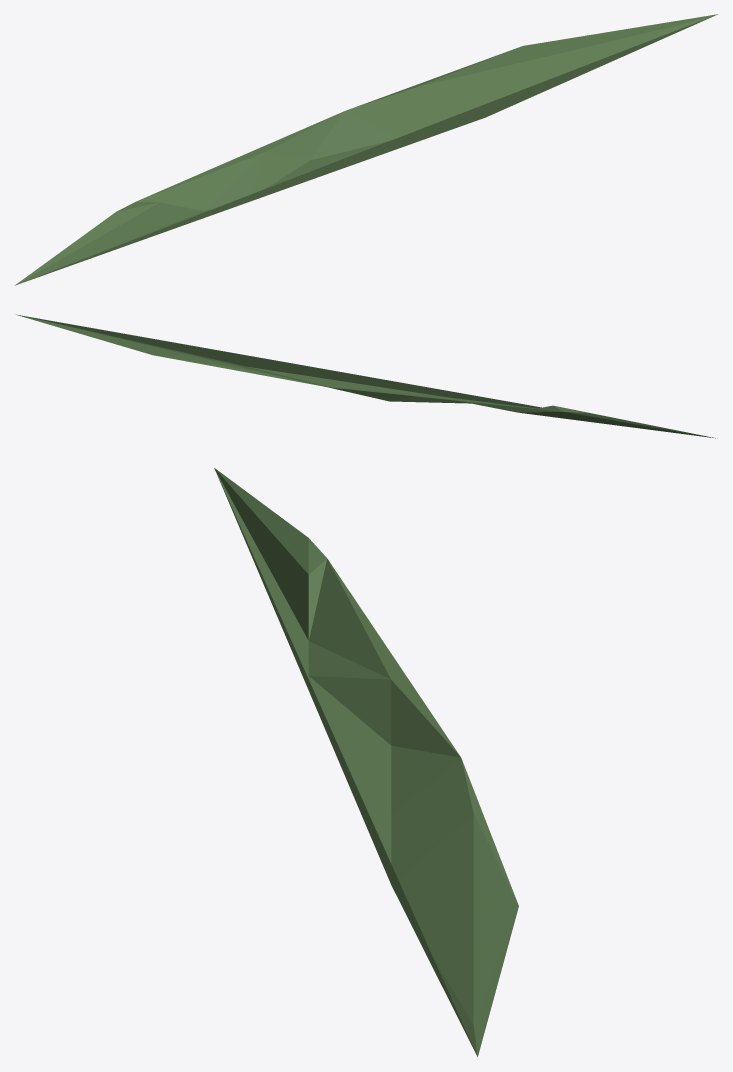
File: tile_3_6.glb
3 renders of one model, top to bottom at view 1: azimuth 30°, elevation 25°; view 2: azimuth 150°, elevation 25°; view 3: azimuth 270°, elevation 25°, orthographic. The views are drawn at different scales.
Parts seen in each view (by area): view 1: grn_3_6; view 2: grn_3_6; view 3: grn_3_6.
Boxes of the visible parts, x1,y1,x2,y2 form: grn_3_6: [15, 14, 717, 285]; grn_3_6: [16, 314, 717, 438]; grn_3_6: [214, 468, 518, 1056].
Size of the model in its own units: 143 by 4.23 by 29.6.
